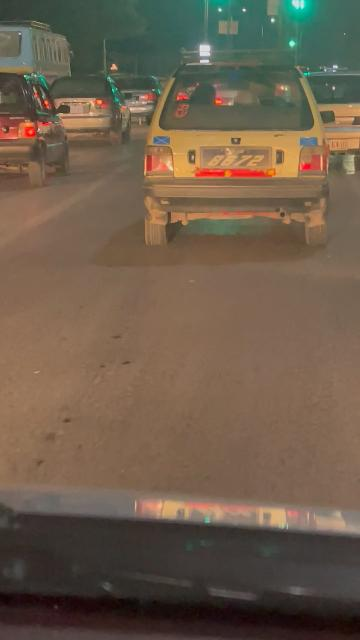plate: (200, 148, 274, 172)
